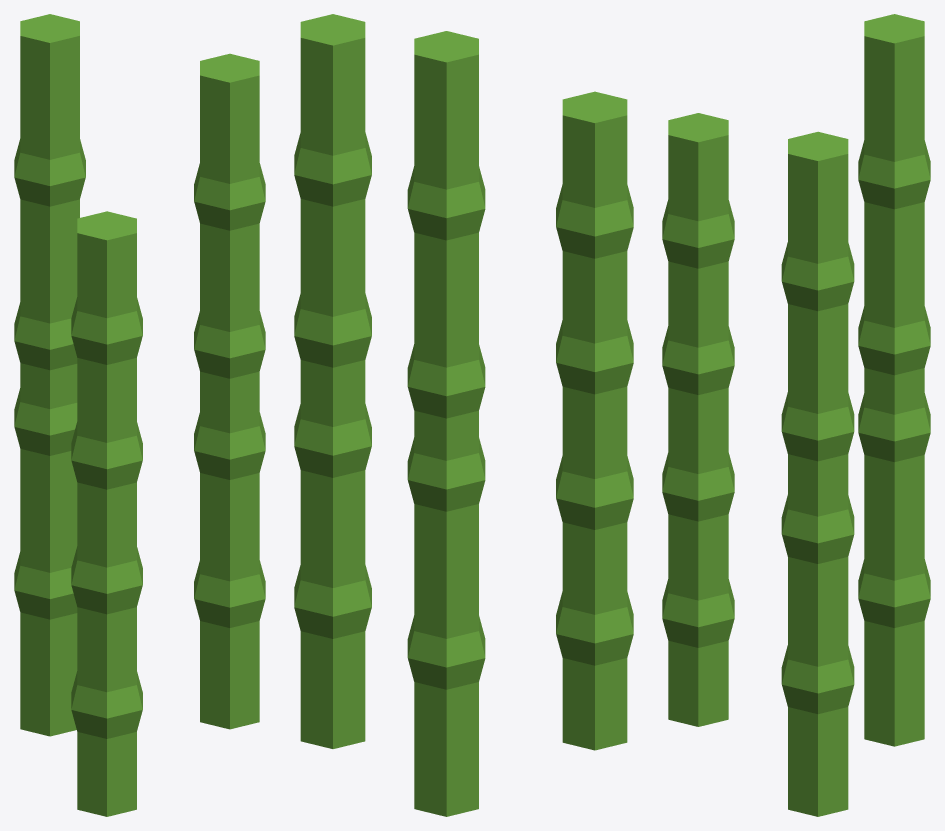
File: crops_bambooStageB.glb
3 renders of one model, left to right at view 1: azimuth 30°, elevation 25°; view 2: azimuth 150°, elevation 25°; view 3: azimuth 270°, elevation 25°, orthographic. The views are drawn at different scales.
Parts seen in each view (by area): view 1: crops_bambooStageB; view 2: crops_bambooStageB; view 3: crops_bambooStageB.
Part boxes in pixels (box(x1,y1,x2,y2)): crops_bambooStageB: box(14, 14, 265, 816); crops_bambooStageB: box(294, 14, 633, 816); crops_bambooStageB: box(662, 14, 930, 816).
Size of the model in its own units: 0.3401 by 0.89 by 0.308.
